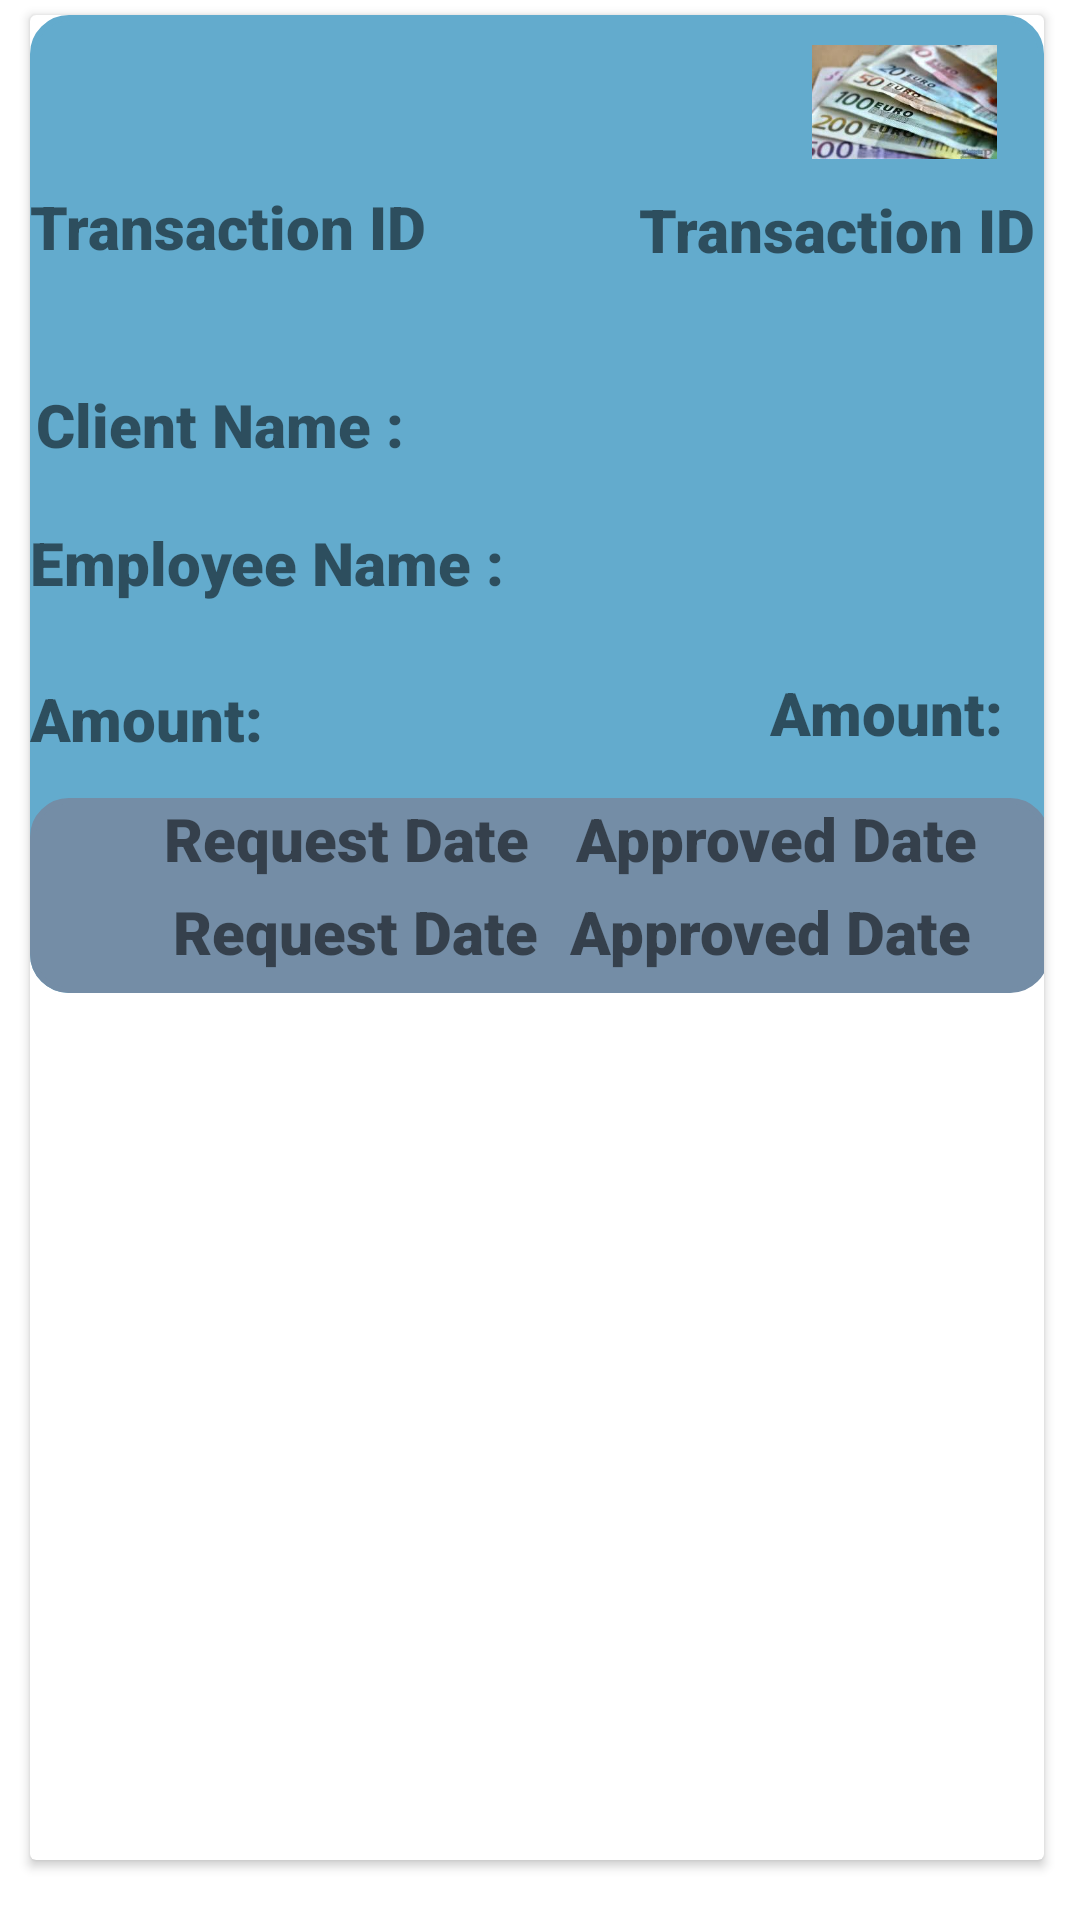

Icon click points for this 1080 × 1920 phone screenshot, format point (x, y):
deposit: point (904, 102)
